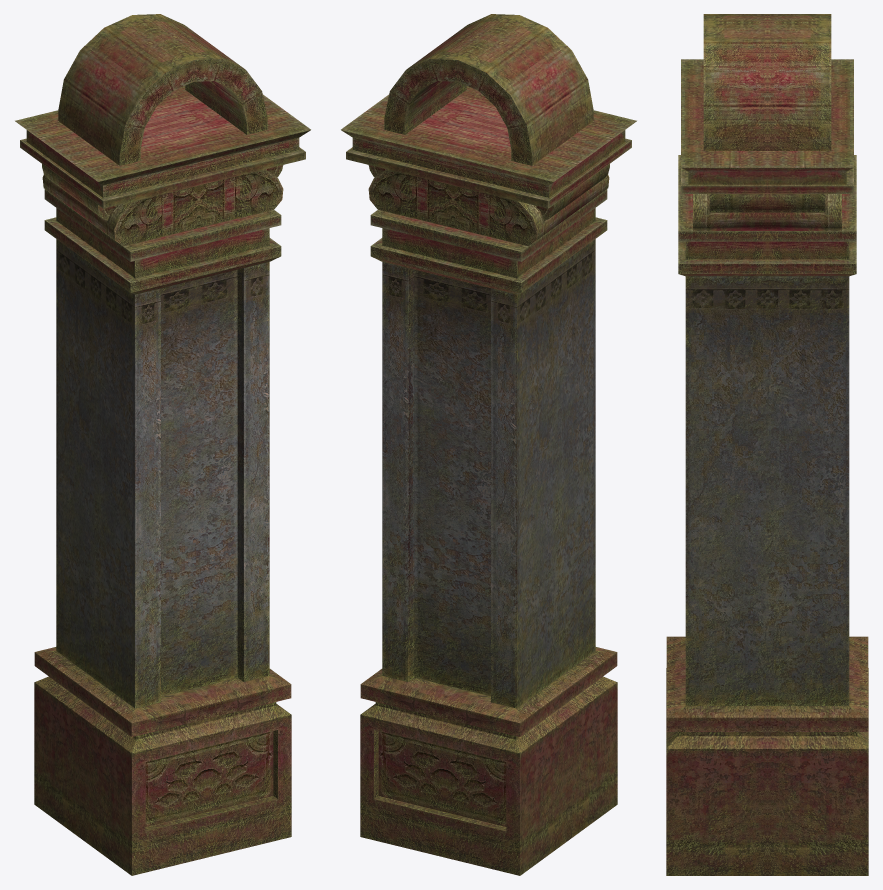
Rendered from fortressa_pillar_00.fbx.
3 renders of one model, left to right at view 1: azimuth 30°, elevation 25°; view 2: azimuth 150°, elevation 25°; view 3: azimuth 270°, elevation 25°, orthographic. The views are drawn at different scales.
Parts seen in each view (by area): view 1: fortressA_pillar_00; view 2: fortressA_pillar_00; view 3: fortressA_pillar_00.
Part boxes in pixels (bbox=[...]): fortressA_pillar_00: bbox=[15, 14, 310, 875]; fortressA_pillar_00: bbox=[341, 14, 636, 875]; fortressA_pillar_00: bbox=[666, 14, 868, 875].
Size of the model in its own units: 5.27 by 18.47 by 4.16.
